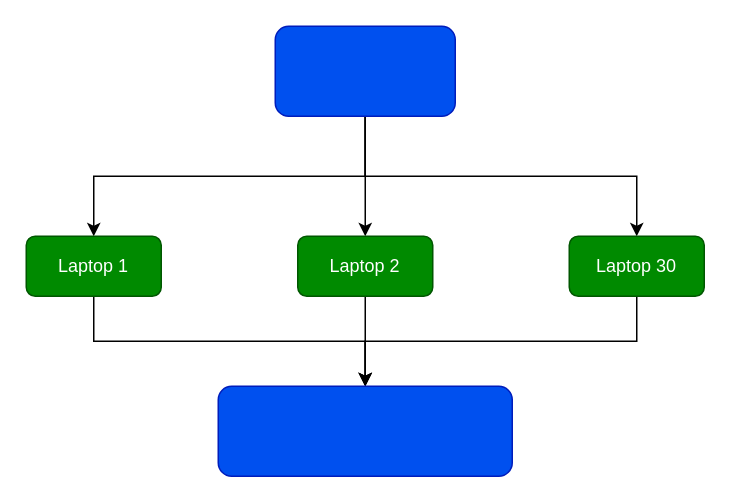
This 731x503 diagram has some shape labels left out. Each missing label, with the centre of its shape:
"Router / Switch" belongs at pixel 364 70.
"Servidor Web (Flask) 192.168.1.100:5000" belongs at pixel 364 430.
